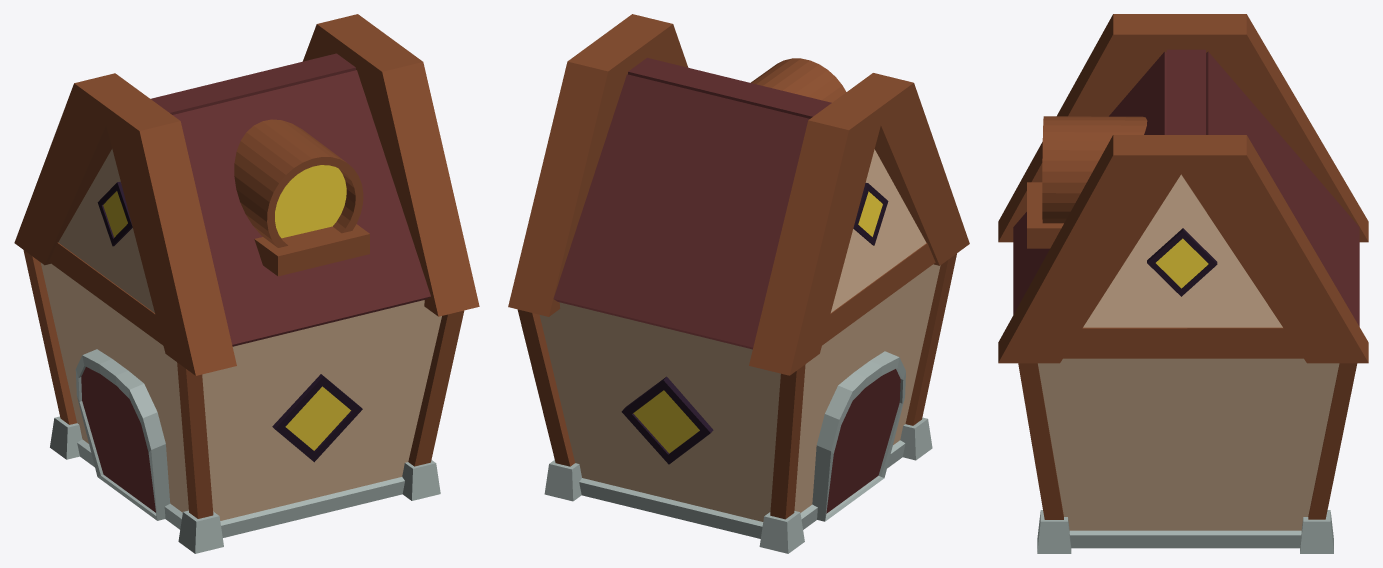
The model's file is House.fbx.
3 renders of one model, left to right at view 1: azimuth 30°, elevation 25°; view 2: azimuth 150°, elevation 25°; view 3: azimuth 270°, elevation 25°, orthographic. The views are drawn at different scales.
Visible parts, largest first — view 1: Cube.002; view 2: Cube.002; view 3: Cube.002.
Boxes of the visible parts, x1,y1,x2,y2 form: Cube.002: (14, 14, 479, 553); Cube.002: (508, 14, 969, 553); Cube.002: (998, 14, 1368, 553).
Bounding box in the file's own units: 203 × 273 × 225.
